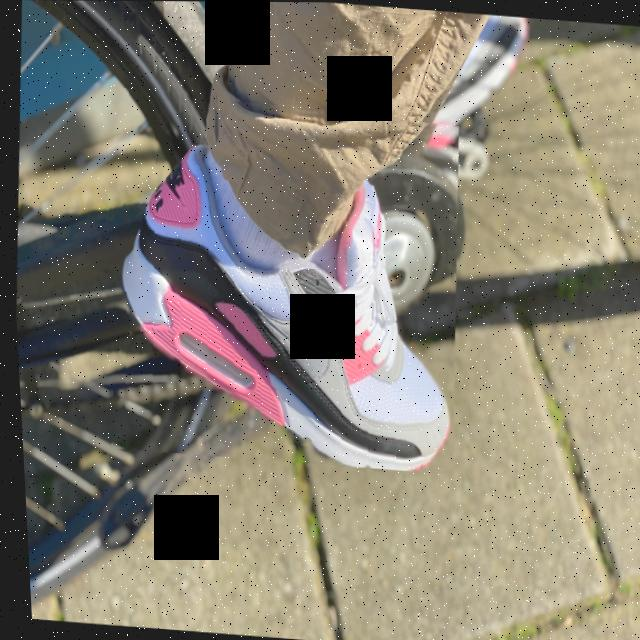shoe: (88, 87, 472, 474)
